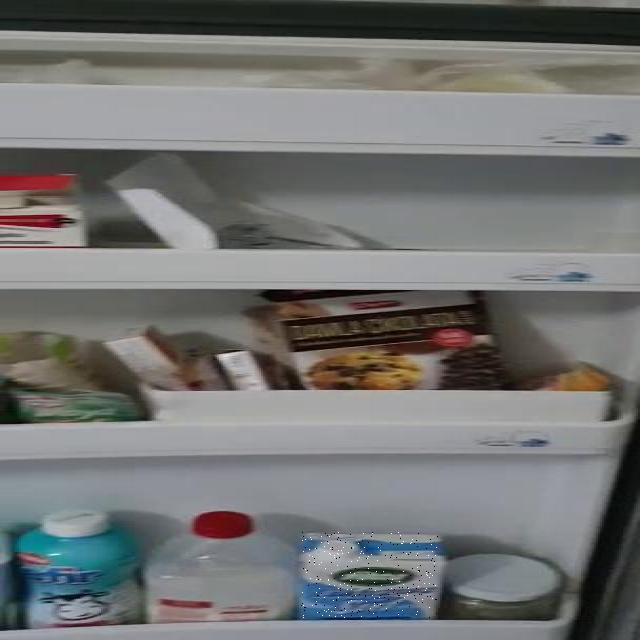milk: (301, 532, 438, 618)
